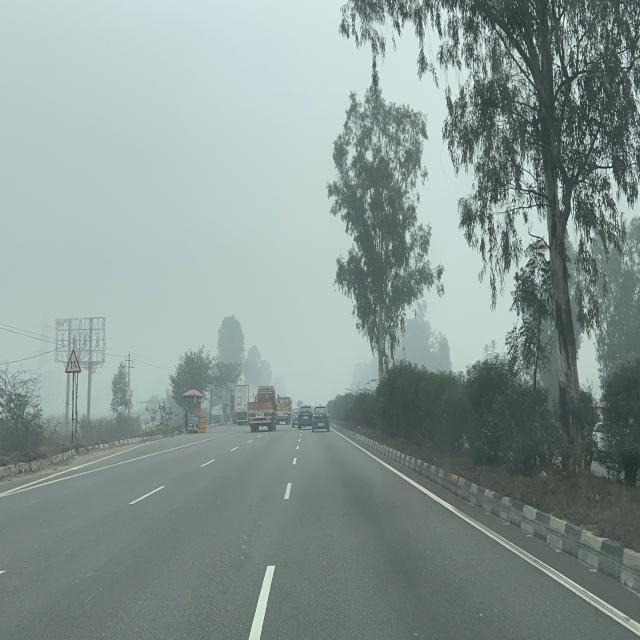WARNING: (65, 349, 81, 374)
